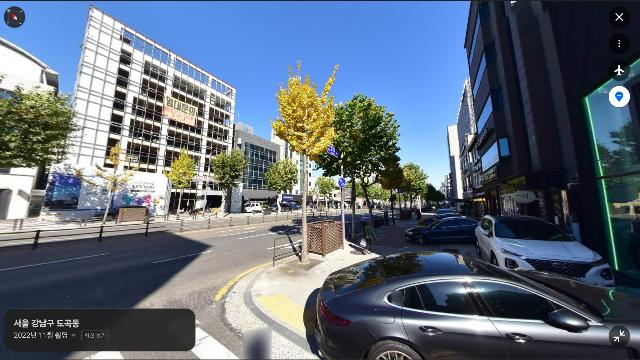ginkgo: (268, 59, 341, 266), (73, 141, 141, 223), (164, 144, 198, 220)
other: (0, 79, 79, 219), (339, 88, 402, 174), (205, 138, 249, 219), (263, 157, 300, 215), (391, 160, 429, 214), (313, 169, 343, 209), (356, 177, 385, 212), (426, 182, 445, 212)
